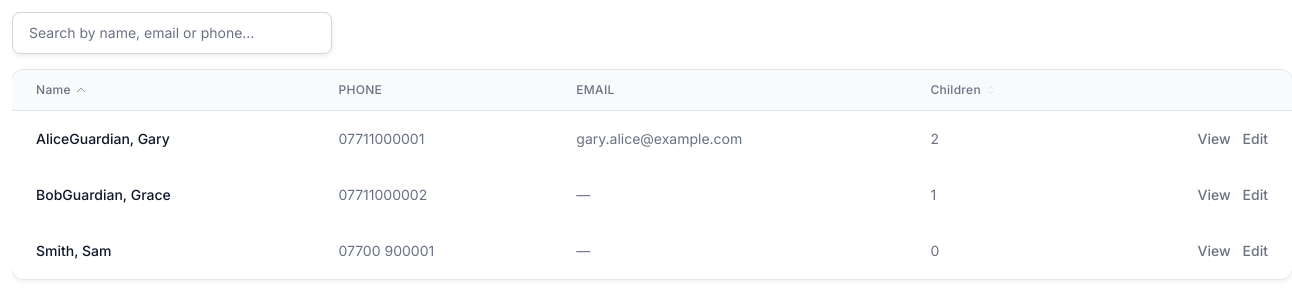
it: GuardiansTable › does not route a mixed letters-and-digits query into phone matching
Type "smith1" into the search field with placeholder "Search by name, email or phone…" at (172, 33), box [12,12,332,54]
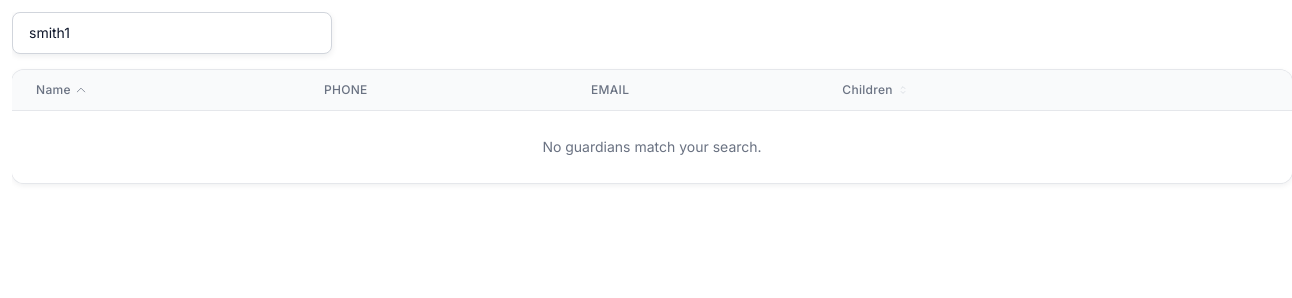
Check: the text "Smith, Sam" is gone
Check: the text "AliceGuardian, Gary" is gone
Check: the text "BobGuardian, Grace" is gone
